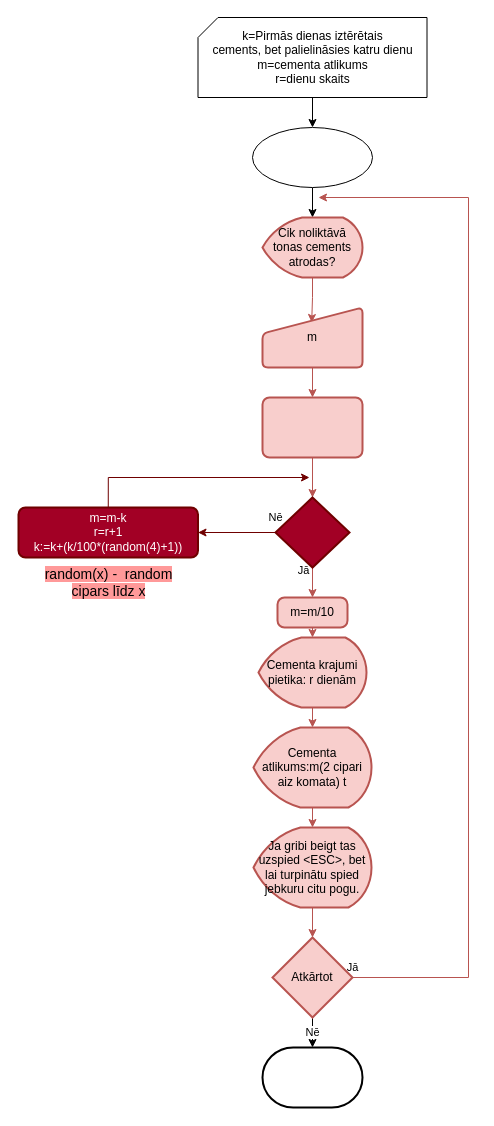
Some shapes in this 494 by 1126 pixel diagram are drawn without their labels. Here are the shapes that lost their labels. From the top down, the centre of each, then its label:
point 312,157: Start
point 312,427: k=2.3 r=0 m=m*10
point 312,532: m<k
point 312,1077: Beigas
